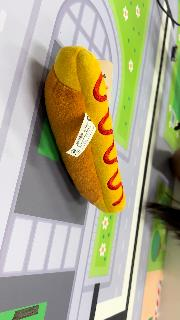hotdog: (43, 46, 126, 214)
